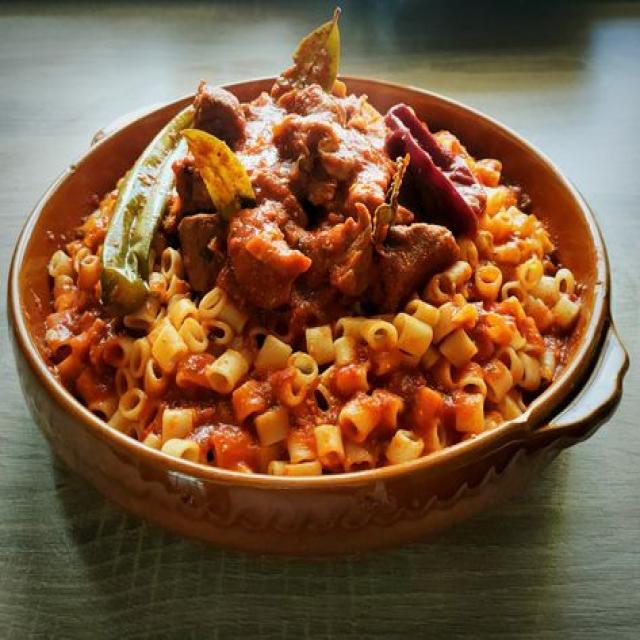Pasta: (15, 36, 598, 519)
